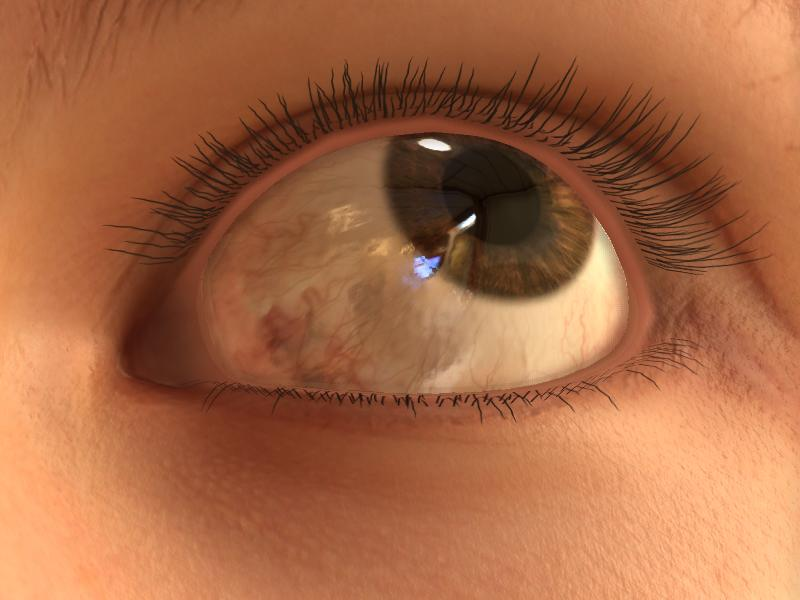eye: (385, 129, 595, 303)
